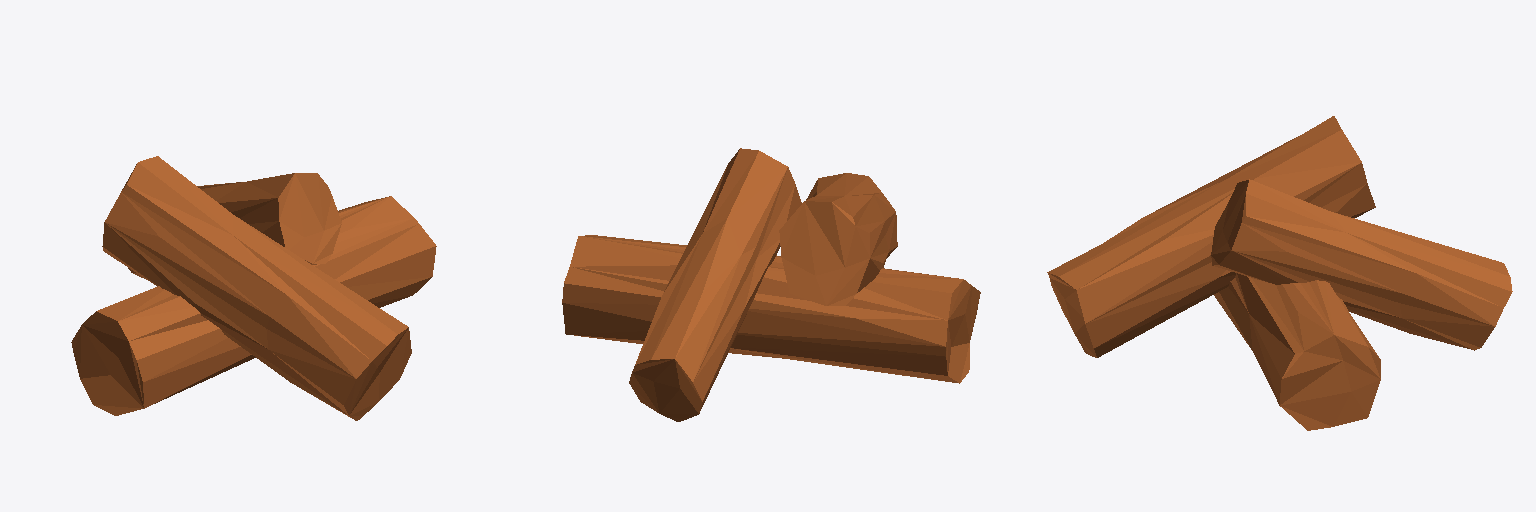
The model's file is firepit_logs.obj.
3 renders of one model, left to right at view 1: azimuth 30°, elevation 25°; view 2: azimuth 150°, elevation 25°; view 3: azimuth 270°, elevation 25°, orthographic.
Parts seen in each view (by area): view 1: Firepit; view 2: Firepit; view 3: Firepit.
Part boxes in pixels (bbox=[...]): Firepit: bbox=[71, 156, 436, 420]; Firepit: bbox=[562, 148, 980, 421]; Firepit: bbox=[1047, 116, 1512, 430].
Bounding box in the file's own units: 1.23 × 0.622 × 1.36.